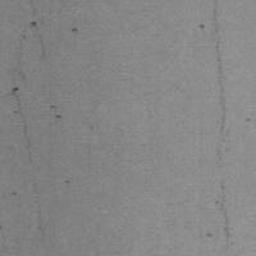Inclusion: (0, 19, 52, 250), (212, 0, 228, 134), (214, 179, 233, 239), (0, 189, 8, 230), (54, 114, 64, 120), (70, 27, 79, 33), (50, 104, 58, 110), (205, 233, 214, 238)
